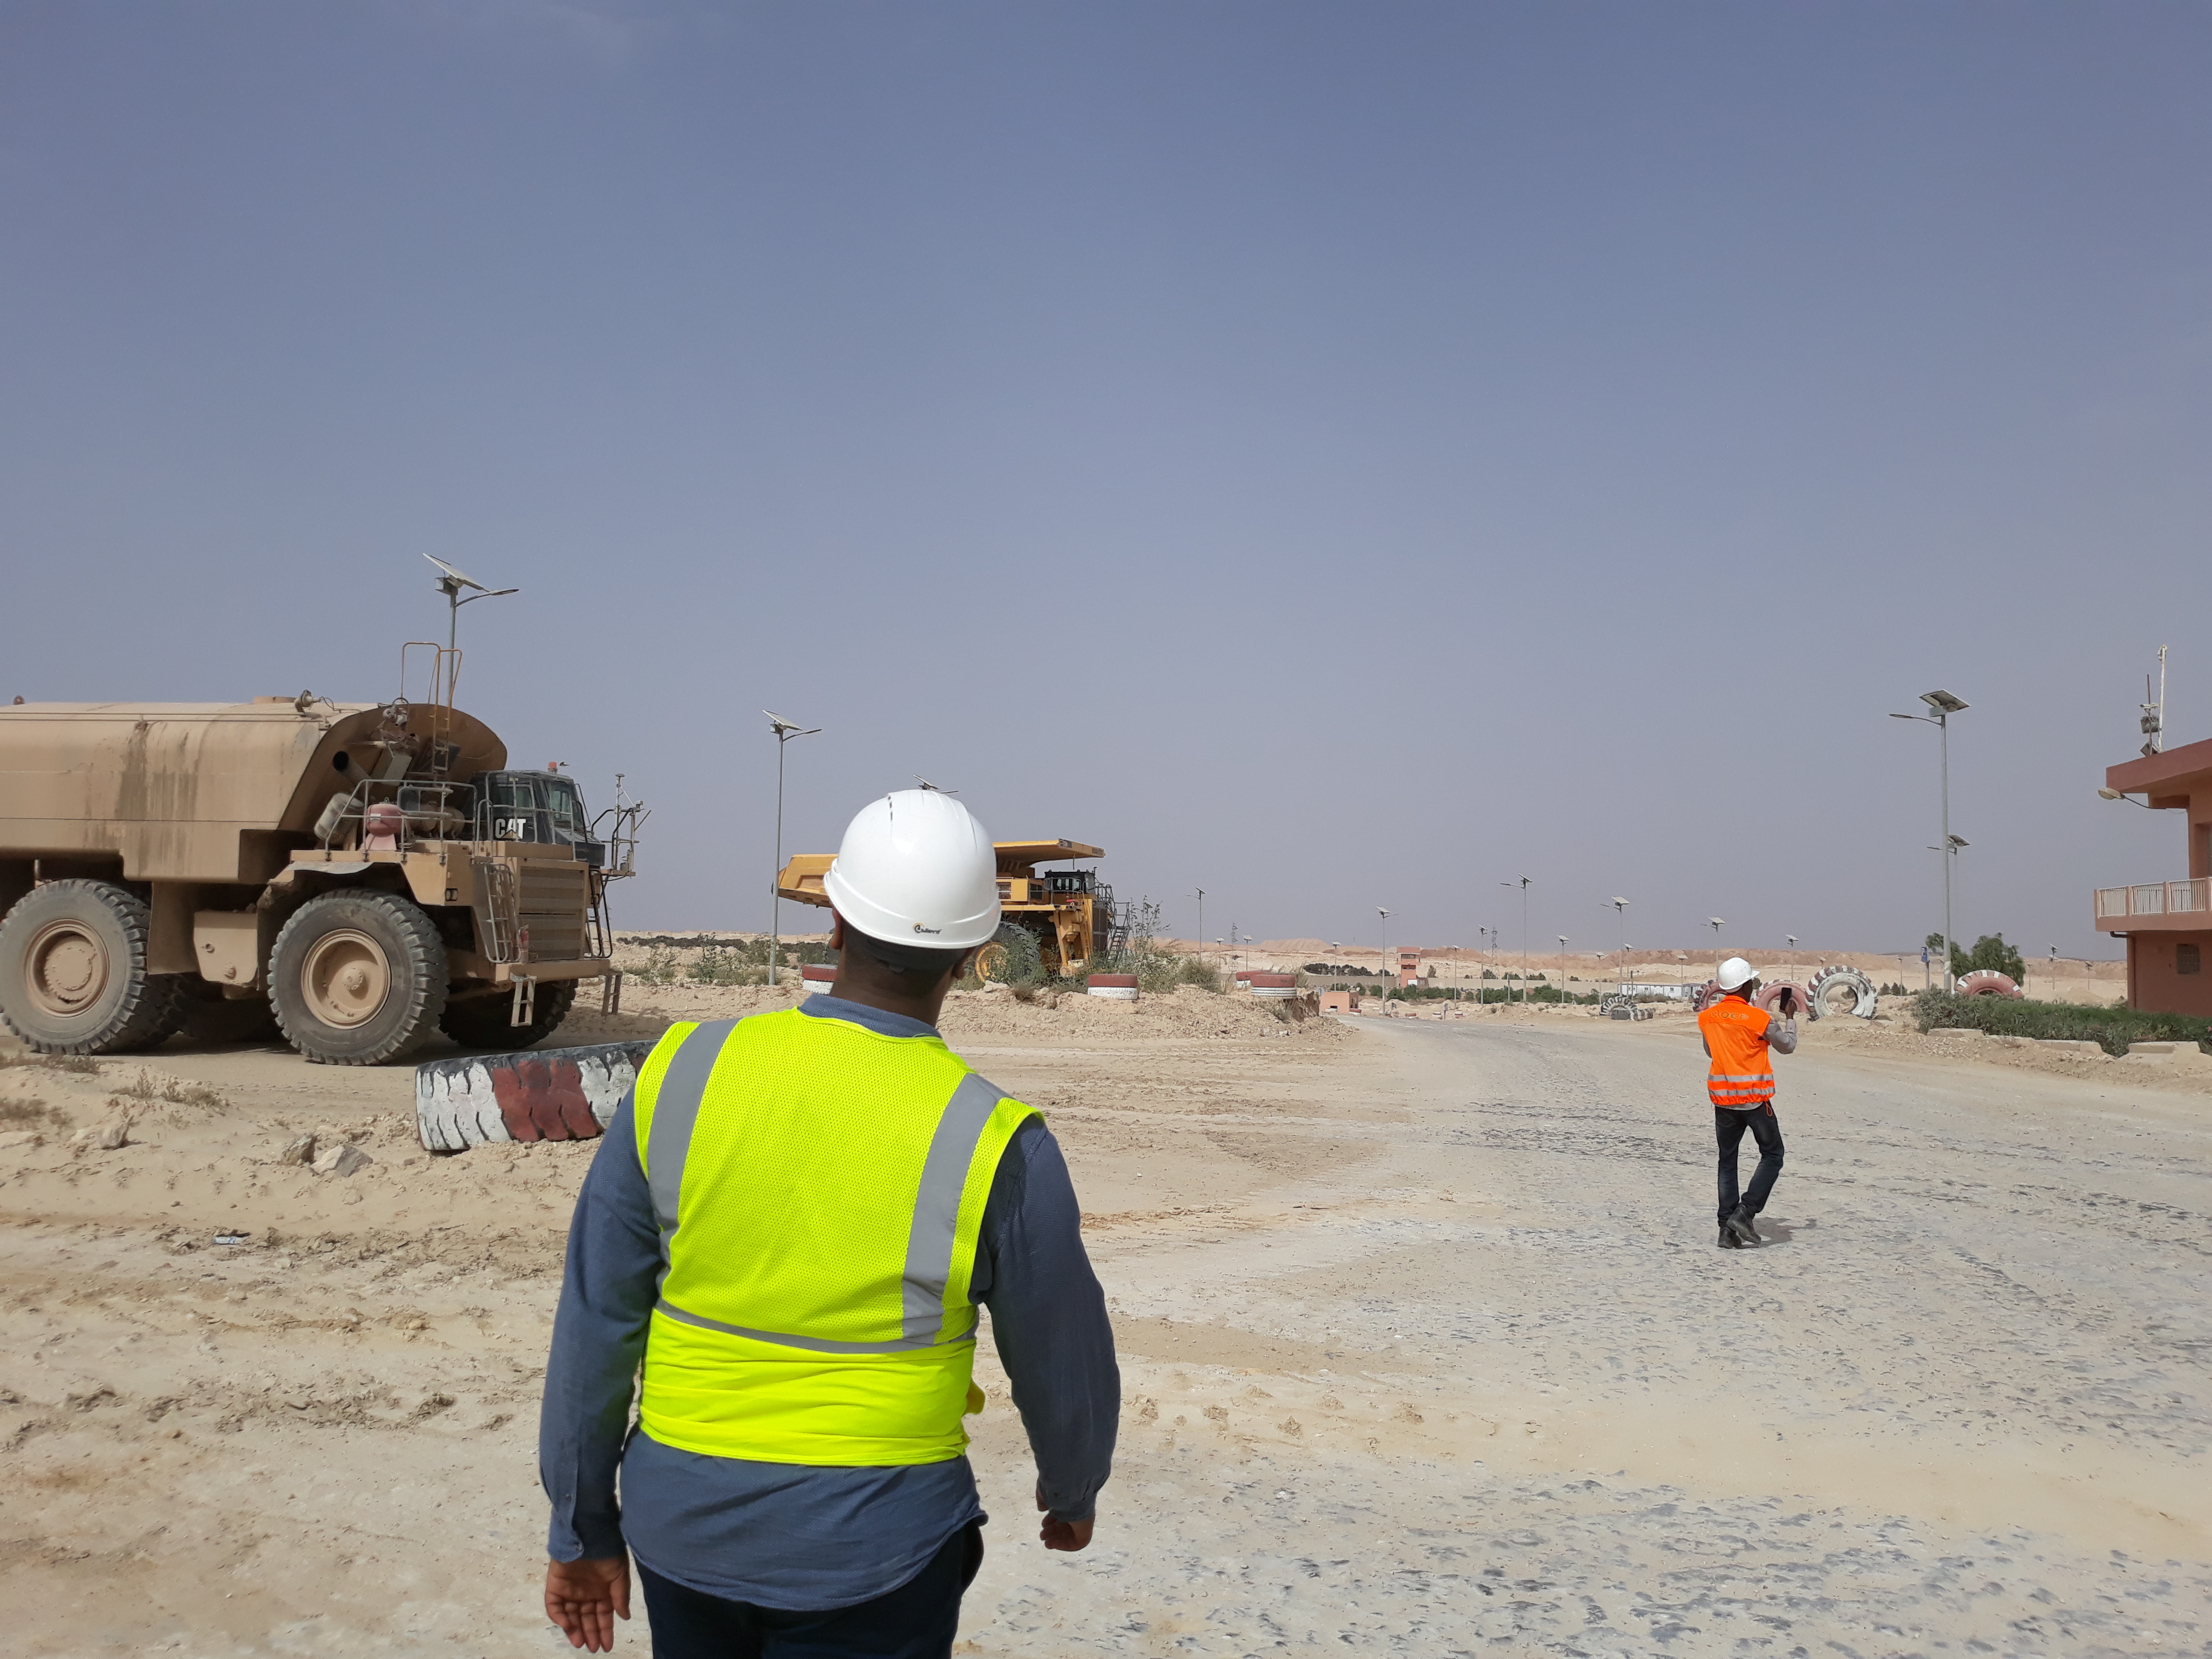camion: (764, 823, 1132, 1010)
person: (522, 764, 1138, 1659), (1657, 930, 1821, 1277)
